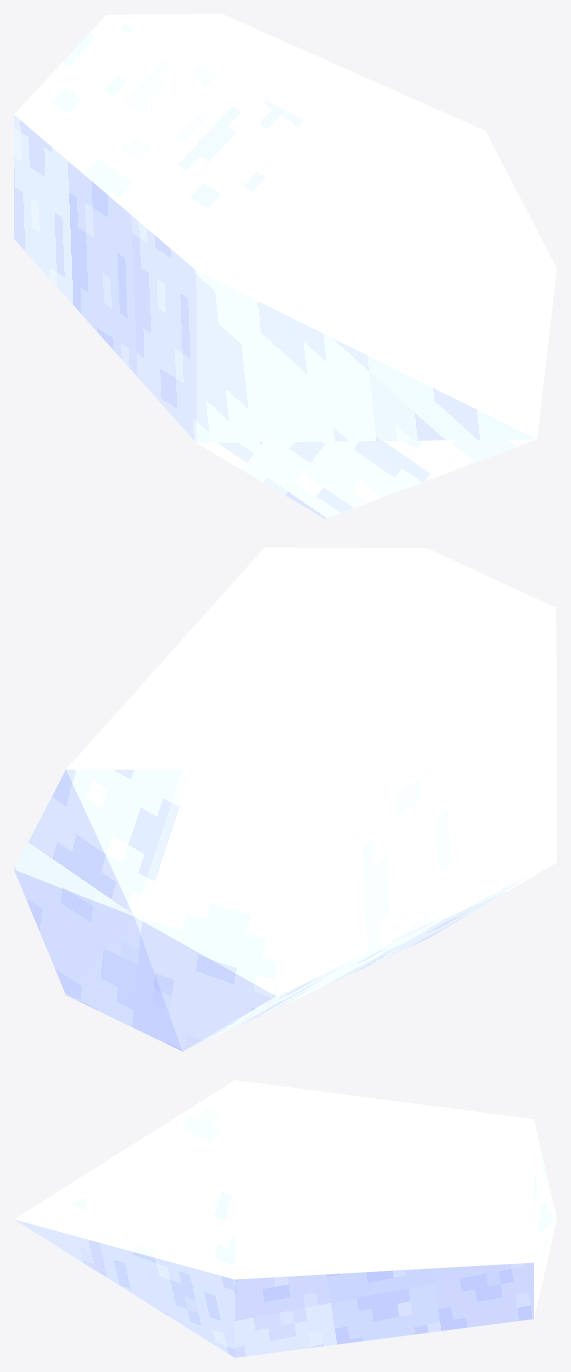
File: sentinel-ammo-storm.glb
3 views of the same model, one above another, from view 1: azimuth 30°, elevation 25°; view 2: azimuth 150°, elevation 25°; view 3: azimuth 270°, elevation 25° (orthographic). The views are drawn at different scales.
Parts seen in each view (by area): view 1: loaded-rough-crystal; view 2: loaded-rough-crystal; view 3: loaded-rough-crystal.
Boxes of the visible parts, left/top/right/bottom form: loaded-rough-crystal: left=14, top=14, right=556, bottom=518; loaded-rough-crystal: left=14, top=547, right=556, bottom=1051; loaded-rough-crystal: left=14, top=1080, right=556, bottom=1357.
Bounding box in the file's own units: 0.2471 × 0.2535 × 0.4956.
Materials: 1 (1 with a texture image).
